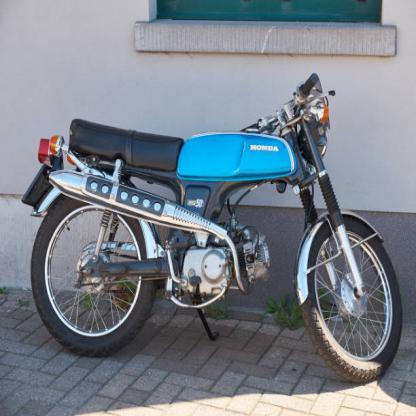Motorcycle: (25, 67, 404, 391)
